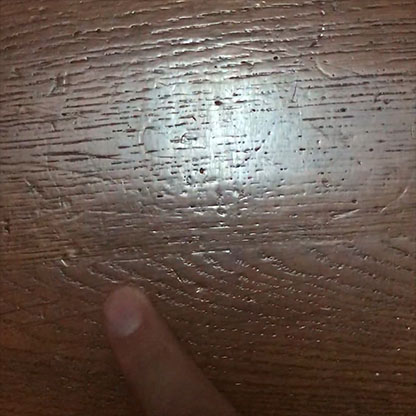fingertip: (88, 284, 168, 354)
